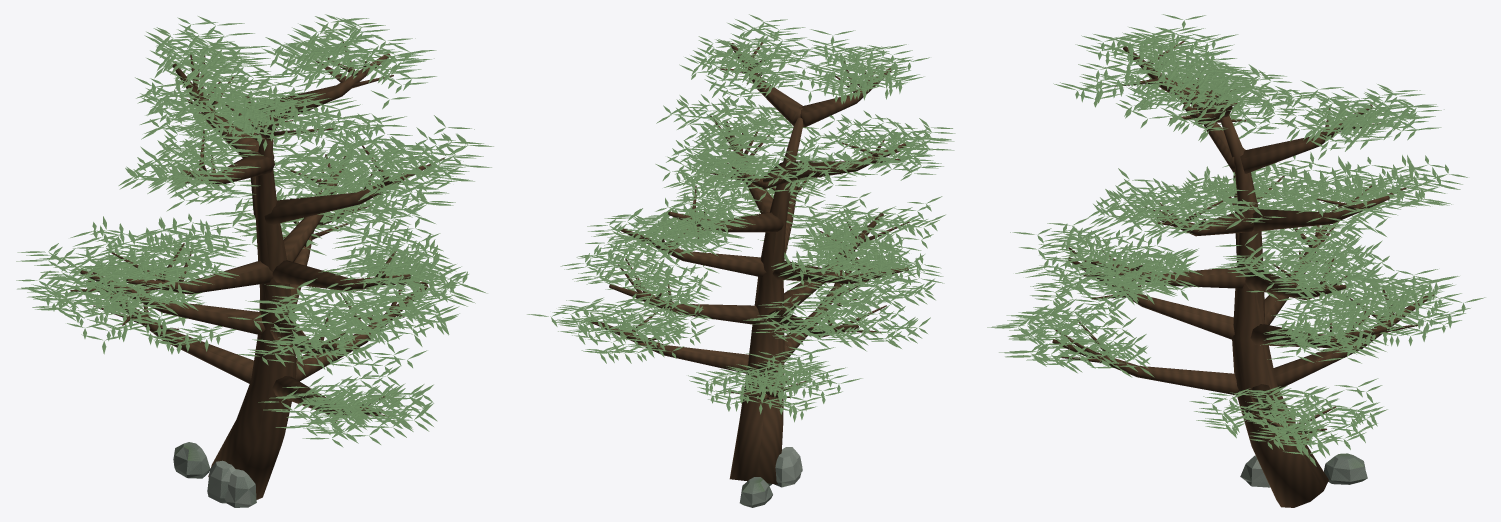
The model's file is v01_pine_1.fbx.
3 views of the same model, side by side, from view 1: azimuth 30°, elevation 25°; view 2: azimuth 150°, elevation 25°; view 3: azimuth 270°, elevation 25° (orthographic). The views are drawn at different scales.
Parts seen in each view (by area): view 1: v01_pine_1.003; view 2: v01_pine_1.003; view 3: v01_pine_1.003.
Part boxes in pixels (bbox=[...]): v01_pine_1.003: bbox=[16, 14, 493, 507]; v01_pine_1.003: bbox=[527, 14, 955, 507]; v01_pine_1.003: bbox=[987, 14, 1485, 507].
Size of the model in its own units: 48309 by 46722 by 48051.
